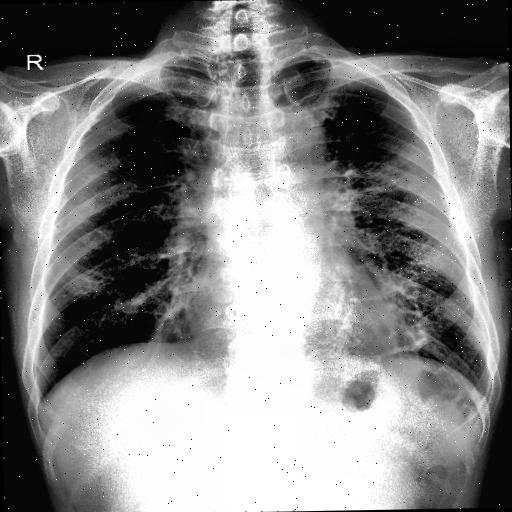0- Aortic enlargement: (258, 105, 331, 182), (241, 108, 324, 170)
13- Pulmonary fibrosis: (363, 154, 431, 196)
7- Lung Opacity: (366, 143, 432, 199)
